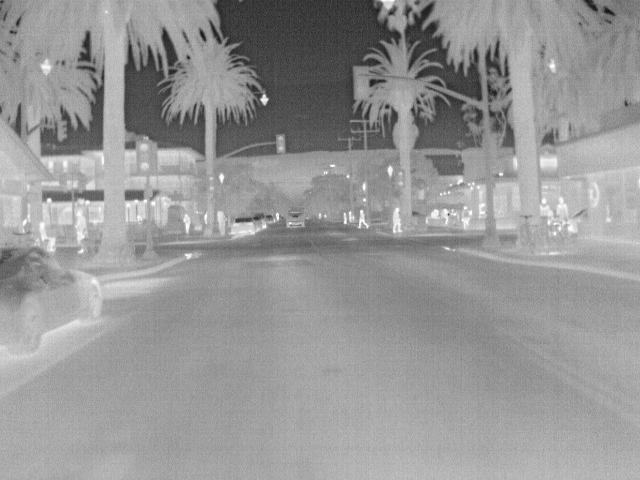car: (1, 245, 102, 354), (285, 209, 308, 230), (233, 218, 256, 236), (249, 214, 266, 232), (263, 212, 275, 224)
person: (73, 208, 87, 254), (38, 220, 55, 250), (389, 204, 404, 234), (539, 197, 559, 217), (556, 195, 571, 221), (355, 208, 372, 230), (459, 204, 472, 229), (181, 212, 193, 234), (440, 206, 452, 226), (428, 208, 443, 220), (341, 210, 350, 224)
